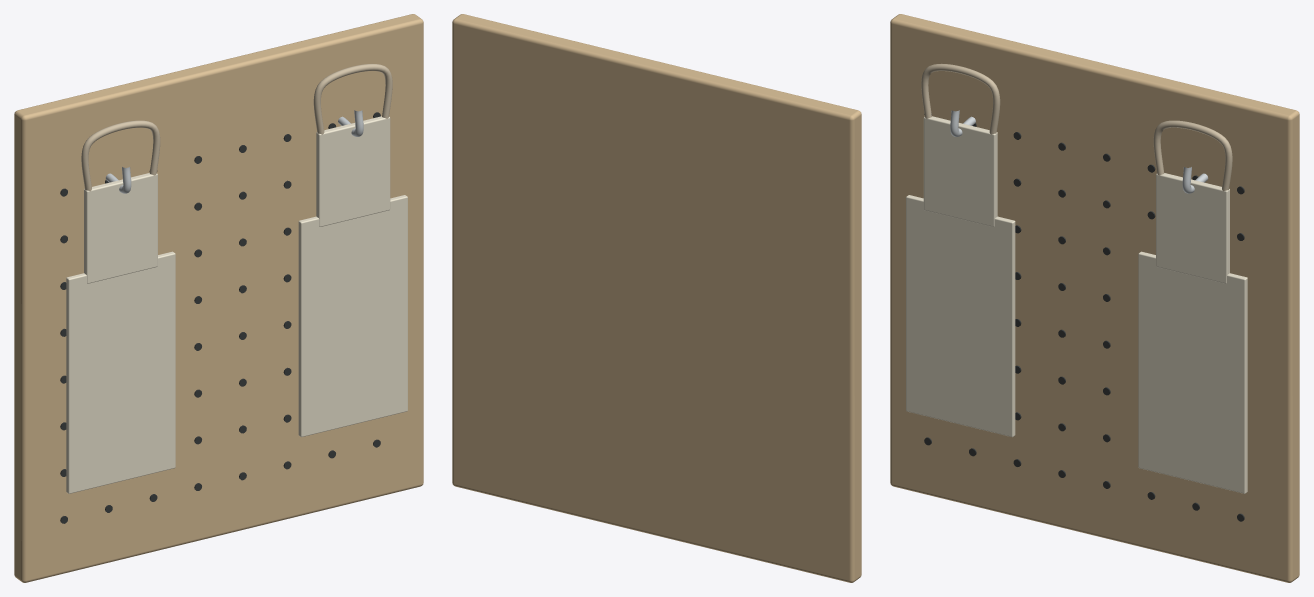
File: candlemaking-and-soap-workshop-apron-storage-pegboard-73230e7c__30693.glb
The picture shows the model from 3 angles, left to right: view 1: azimuth 30°, elevation 25°; view 2: azimuth 150°, elevation 25°; view 3: azimuth 330°, elevation 25°; orthographic projection.
Visible parts, largest first — view 1: apron-storage-pegboard; view 2: apron-storage-pegboard; view 3: apron-storage-pegboard.
Boxes of the visible parts, x1,y1,x2,y2 form: apron-storage-pegboard: [14, 14, 423, 582]; apron-storage-pegboard: [452, 14, 861, 582]; apron-storage-pegboard: [890, 14, 1299, 582].
Size of the model in its own units: 0.9 by 1 by 0.1228.
